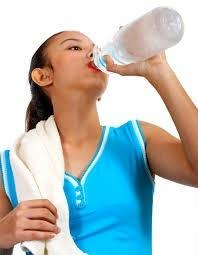Drinking: (32, 8, 184, 93)
